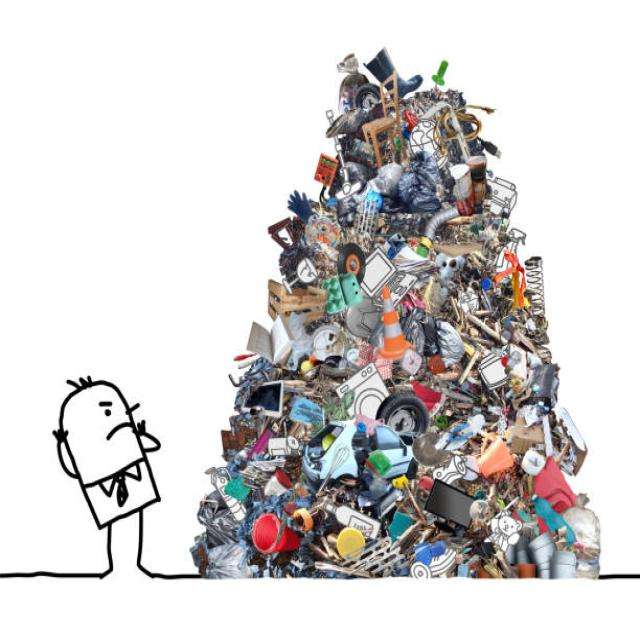trash: (206, 48, 602, 568)
